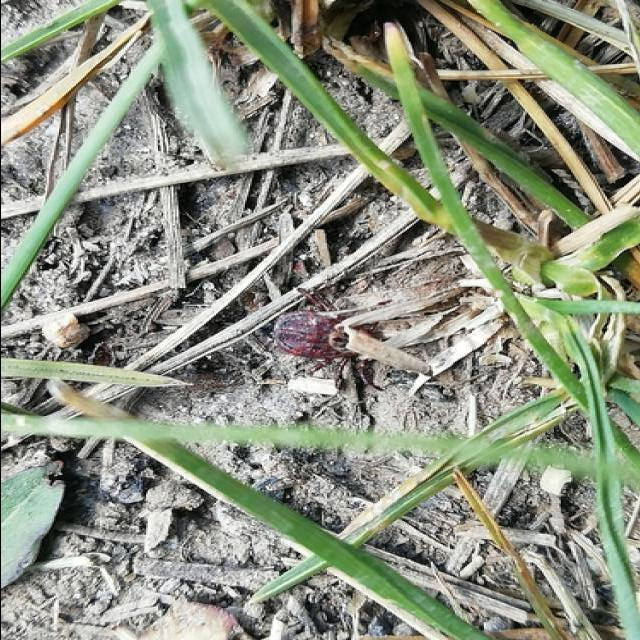Dermacentor Reticulatus-F: (271, 288, 357, 376)
